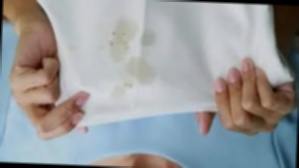oil: (106, 13, 135, 64), (122, 57, 161, 89), (108, 76, 137, 102), (135, 28, 155, 46), (64, 42, 79, 55)
